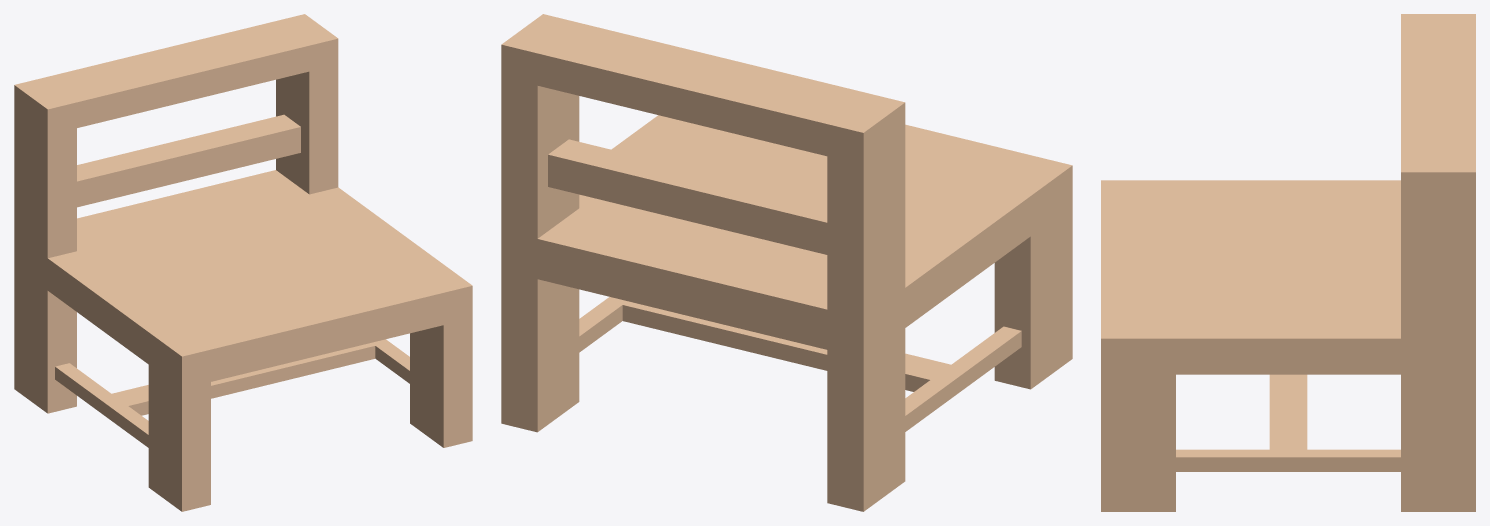
File: kn-bench.glb
The picture shows the model from 3 angles, left to right: view 1: azimuth 30°, elevation 25°; view 2: azimuth 150°, elevation 25°; view 3: azimuth 270°, elevation 25°; orthographic projection. The views are drawn at different scales.
Parts seen in each view (by area): view 1: bench(Clone); view 2: bench(Clone); view 3: bench(Clone).
Part boxes in pixels (left/top/right/bottom): bench(Clone): left=14, top=14, right=472, bottom=511; bench(Clone): left=501, top=14, right=1072, bottom=511; bench(Clone): left=1101, top=14, right=1475, bottom=511.
Bounding box in the file's own units: 1 × 1 × 1.
